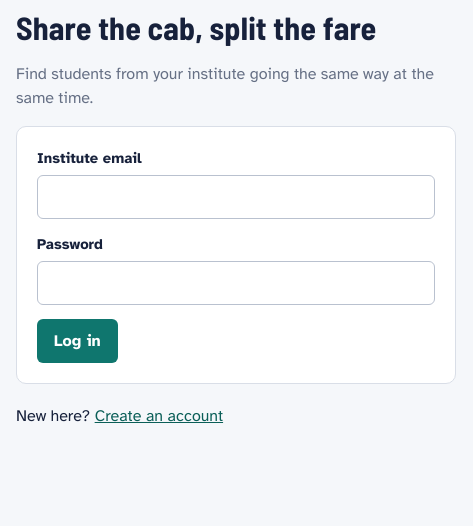
Test: Login page › explains rate limiting in plain words
Step 1. Type "aarav@iitbbs.ac.in" into the field labelled "Institute email" → point(236, 197), box x1=37 y1=175 x2=435 y2=219
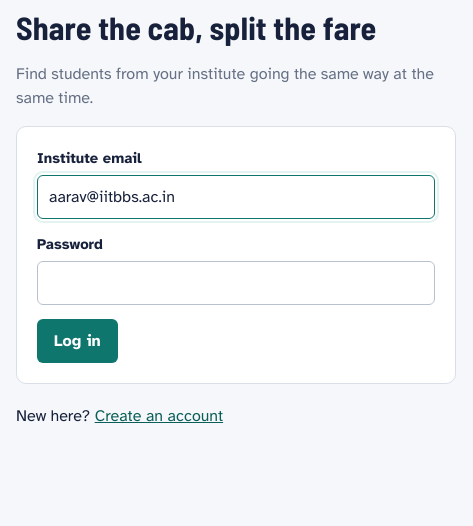
Step 2. Type "whatever1" into the password field labelled "Password" → point(236, 283), box x1=37 y1=261 x2=435 y2=305
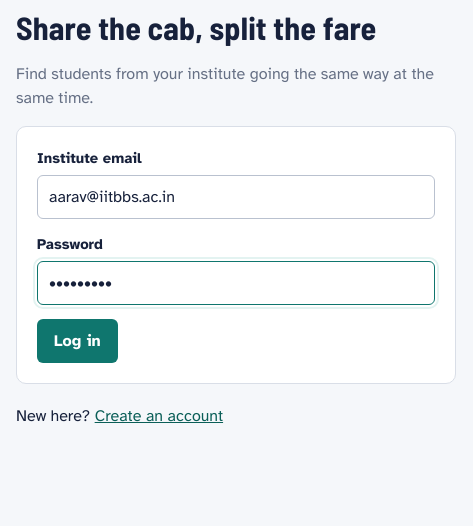
Step 3. Click the button "Log in" → point(77, 341), box x1=37 y1=319 x2=118 y2=363
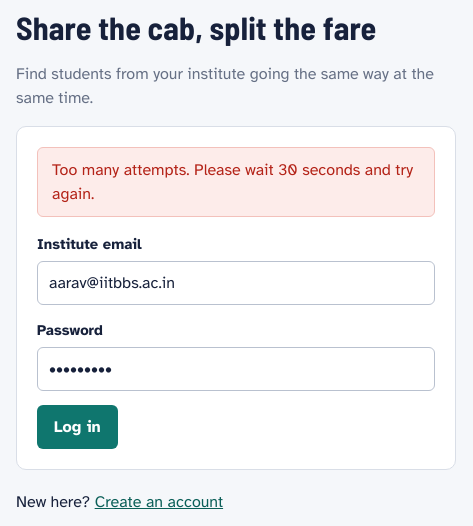
Expected: the message shows "wait 30 seconds", x1=52 y1=160 x2=413 y2=204
